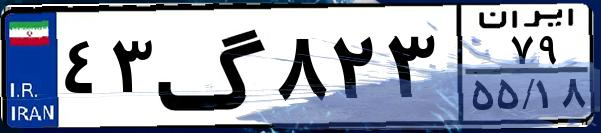1: (535, 70, 560, 125)
2: (330, 28, 385, 110)
3: (385, 28, 445, 110), (110, 28, 156, 98)
4: (57, 26, 110, 100)
5: (470, 70, 495, 125), (495, 70, 520, 125)
7: (508, 27, 537, 80)
8: (270, 28, 330, 110), (560, 70, 590, 125)
9: (537, 27, 568, 80)
گ: (156, 12, 270, 120)
